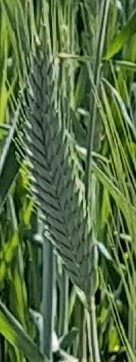Healthy Wheat: (24, 42, 108, 299)
